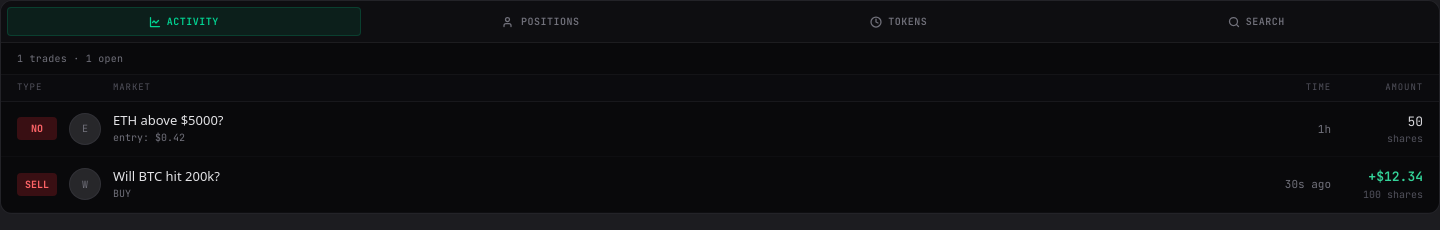
Test: TradeFeed › switching to Positions tab hides trades, keeps positions
Click the button "Positions" at (541, 22), box left=364, top=7, right=718, bottom=36
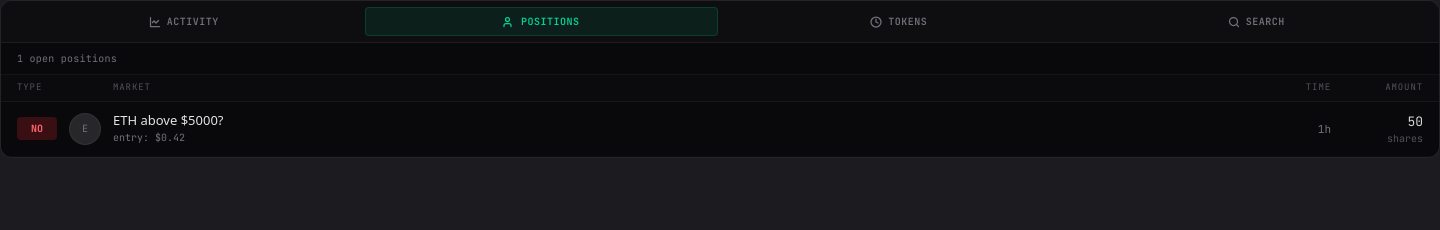
Expected: the text "ETH above $5000?" is shown, left=113, top=111, right=224, bottom=129
Now the text "Will BTC hit 200k?" is gone
Now the text "1 open positions" is shown, box left=17, top=51, right=117, bottom=66
